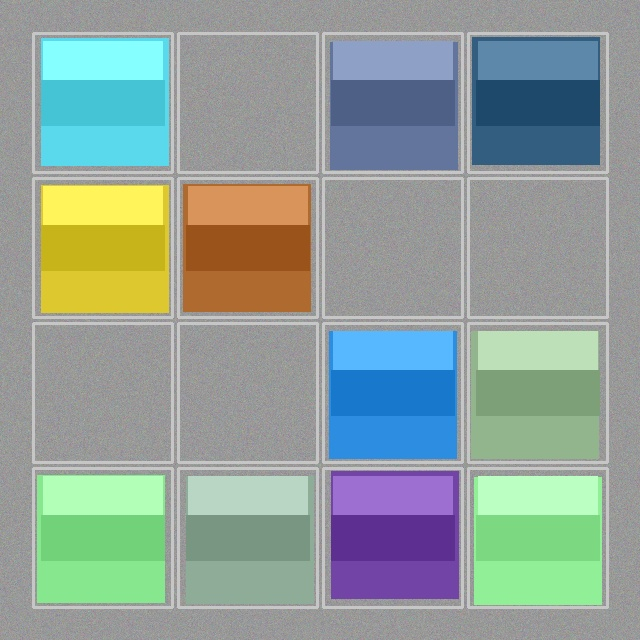space-empty: (180, 35, 315, 170), (325, 180, 460, 315), (470, 180, 605, 315), (35, 325, 170, 460), (180, 325, 315, 460)
space-occupied: (35, 35, 170, 170), (325, 35, 460, 170), (470, 35, 605, 170), (35, 180, 170, 315), (180, 180, 315, 315), (325, 325, 460, 460), (470, 325, 605, 460), (35, 470, 170, 605), (180, 470, 315, 605), (325, 470, 460, 605), (470, 470, 605, 605)
